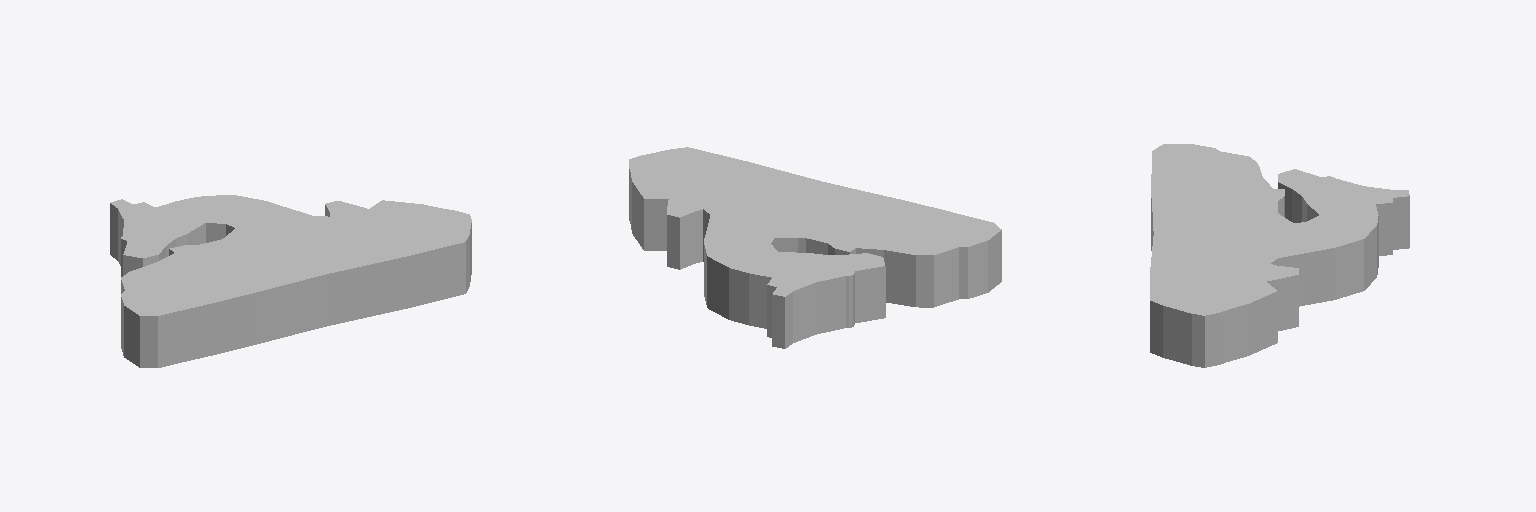
Rendered from dragon.obj.
3 views of the same model, side by side, from view 1: azimuth 30°, elevation 25°; view 2: azimuth 150°, elevation 25°; view 3: azimuth 270°, elevation 25° (orthographic).
Parts seen in each view (by area): view 1: pPlane1; view 2: pPlane1; view 3: pPlane1.
Boxes of the visible parts, x1=… form: pPlane1: x1=110, y1=195, x2=471, y2=367; pPlane1: x1=629, y1=147, x2=1001, y2=348; pPlane1: x1=1150, y1=144, x2=1409, y2=367.
Bounding box in the file's own units: 1.41 × 0.2 × 0.9026.